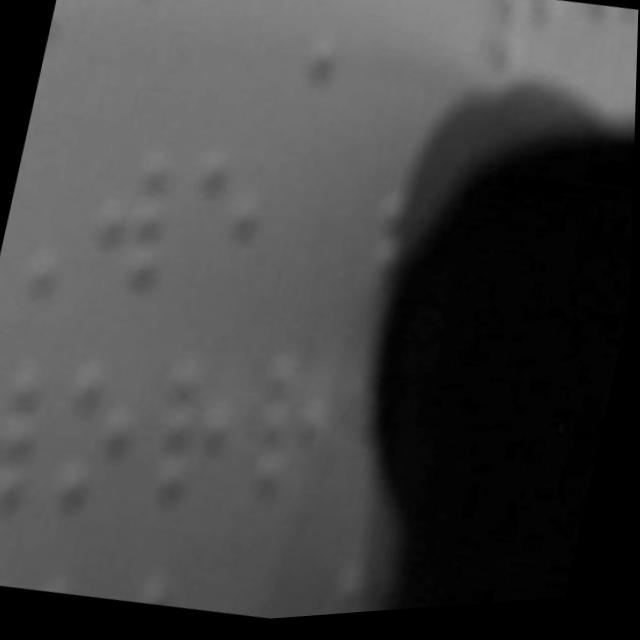braiile: (37, 334, 154, 523), (140, 336, 256, 523), (239, 337, 356, 518), (173, 136, 282, 305), (82, 136, 188, 302), (102, 0, 211, 112), (0, 349, 65, 516), (296, 0, 403, 99), (202, 0, 302, 89), (35, 0, 111, 105)
